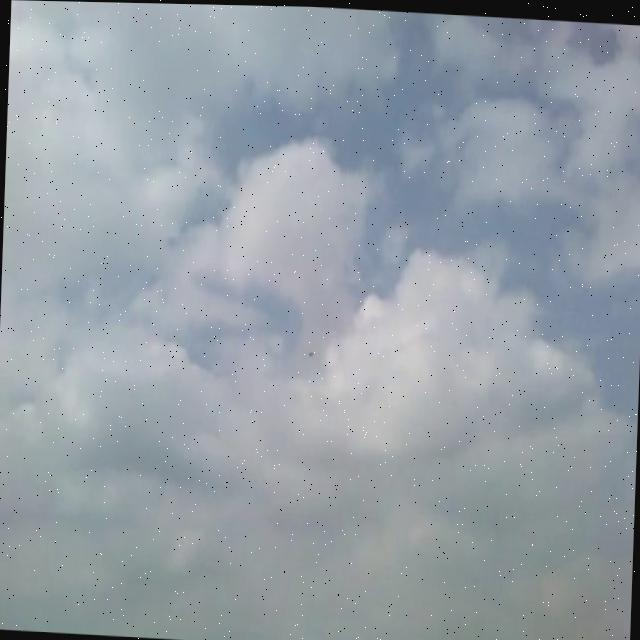drone: (304, 339, 316, 359)
